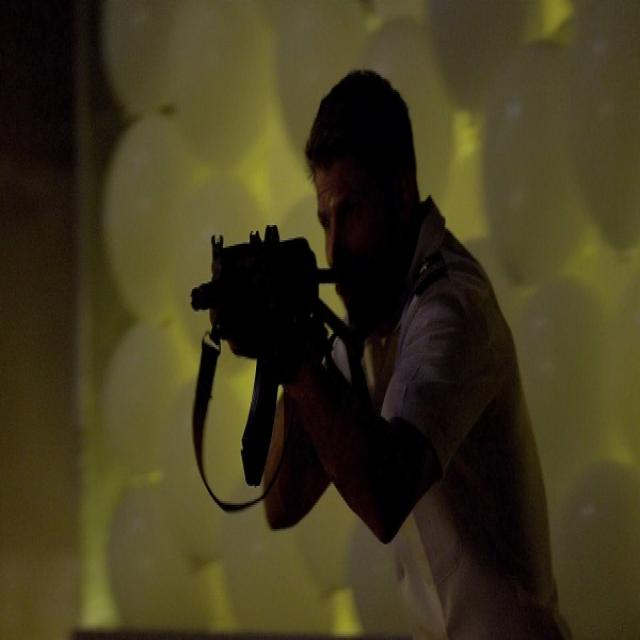rifle: (180, 215, 354, 492)
